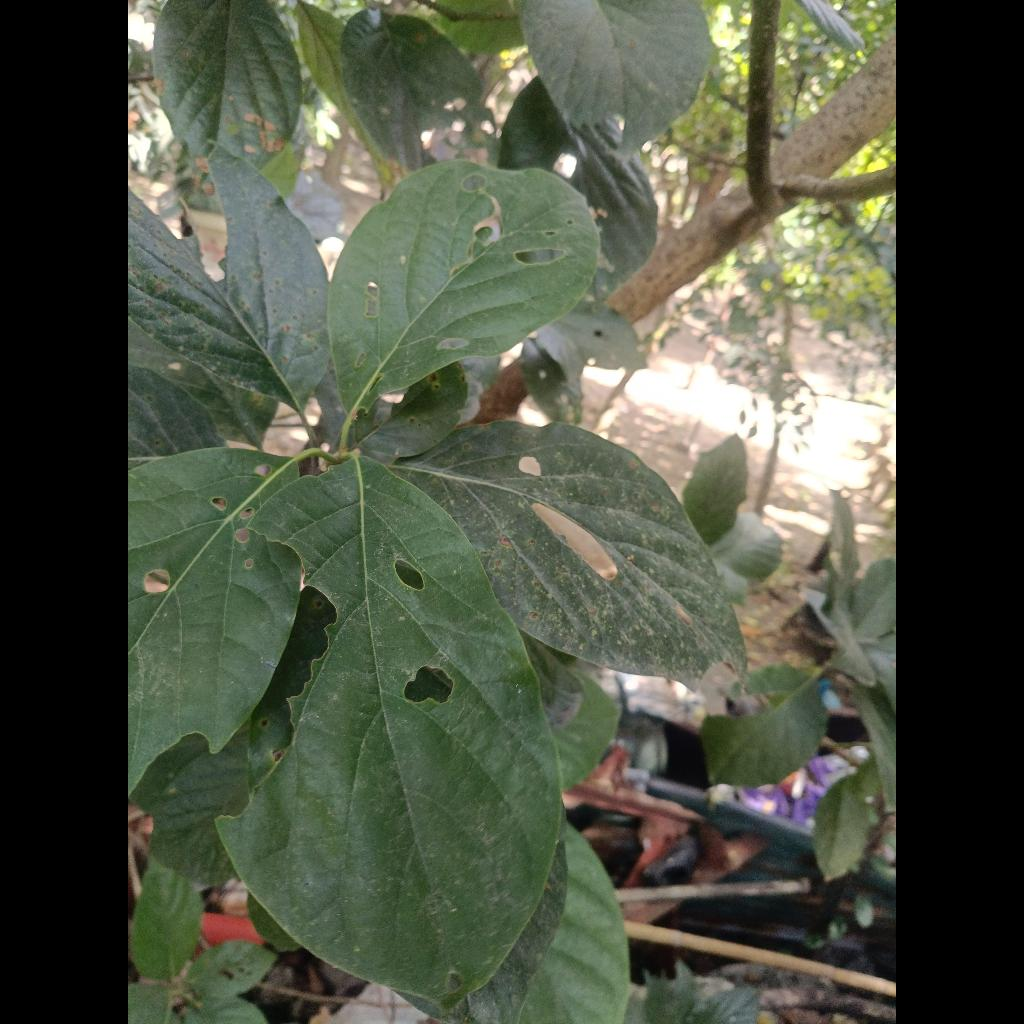plaga: (218, 459, 560, 1009)
